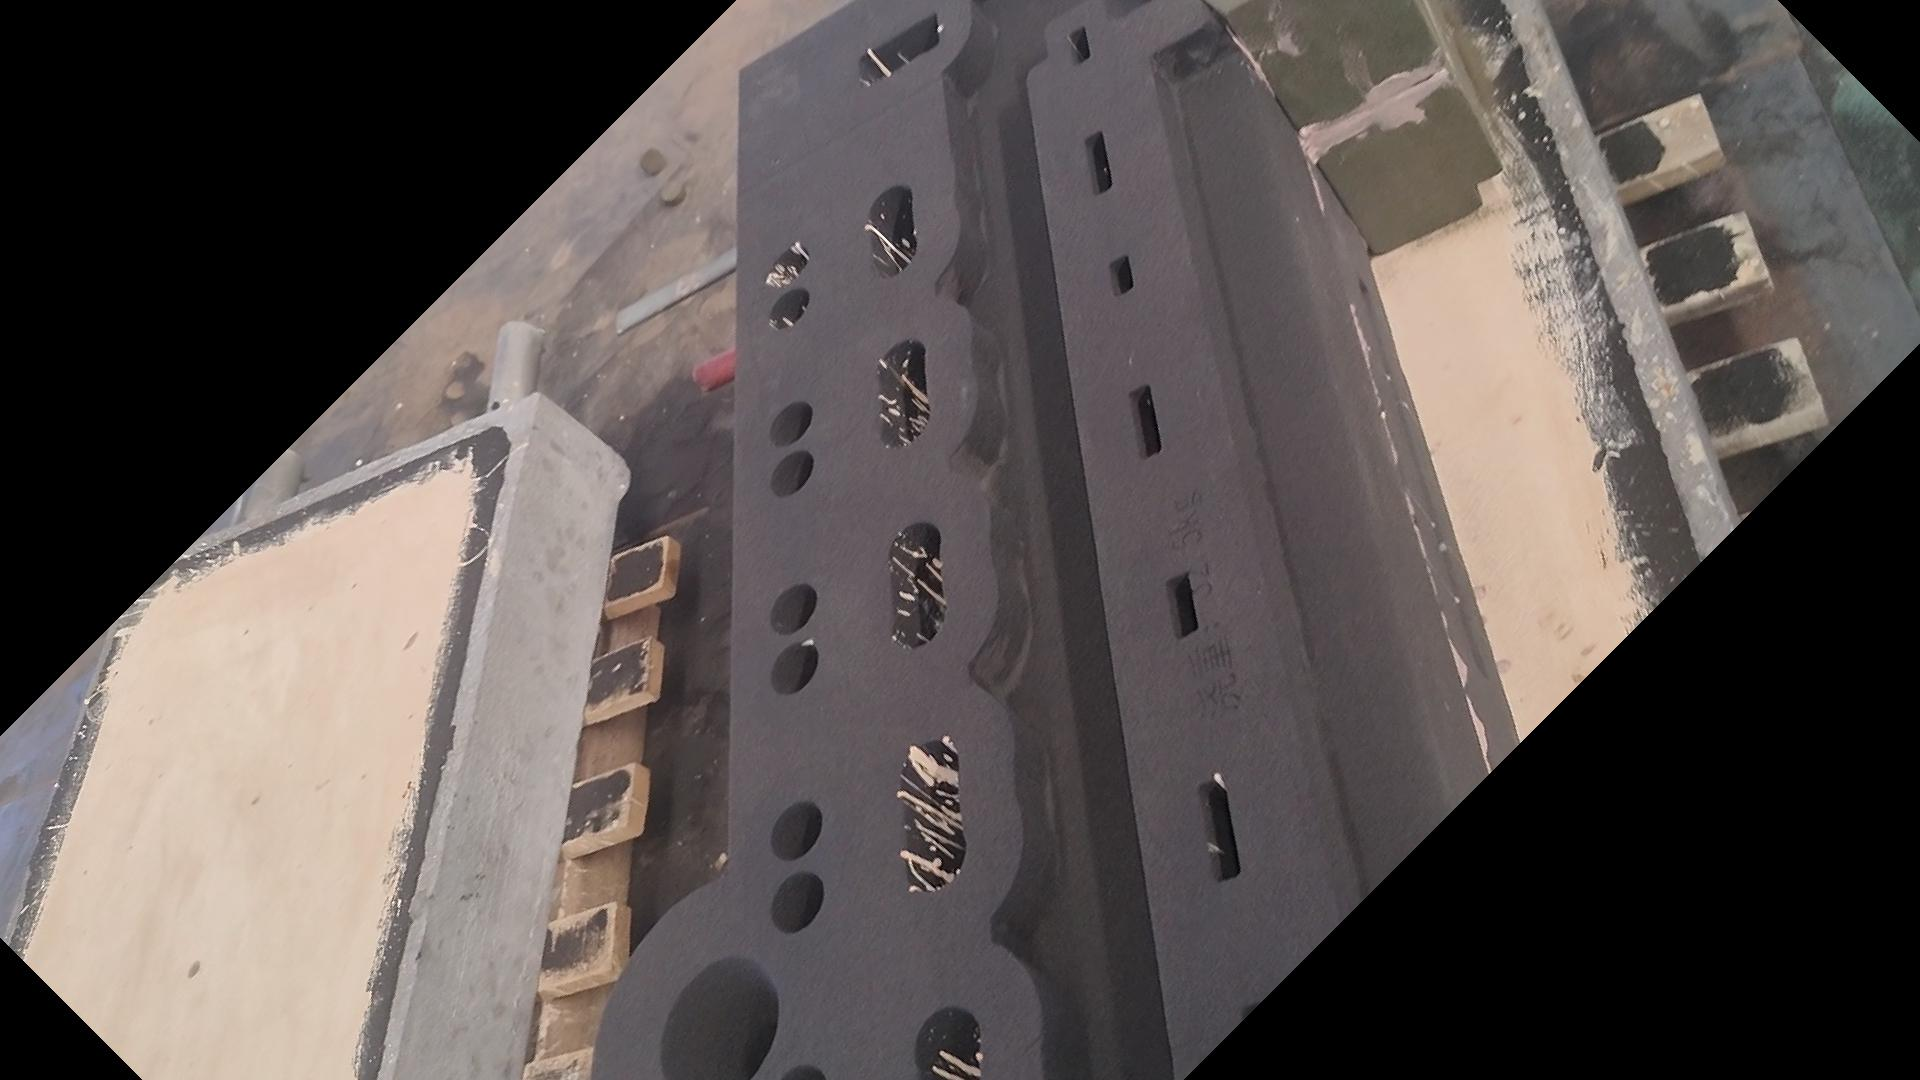pouring hole: (657, 953, 783, 1080)
